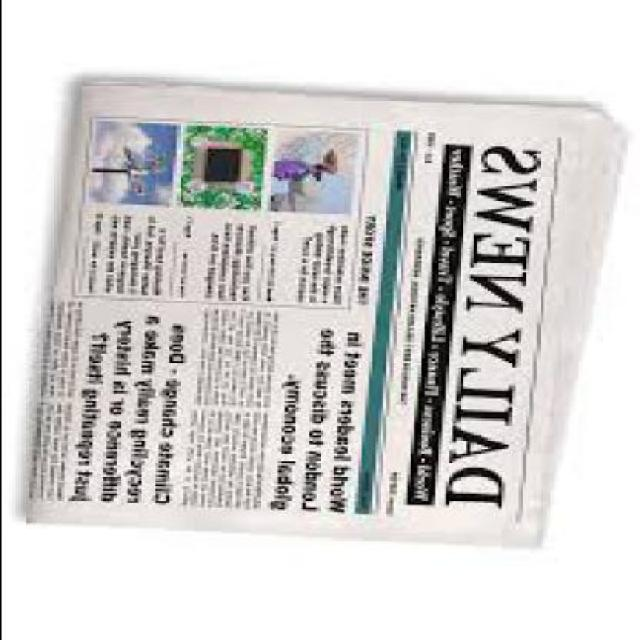PAPER: (28, 78, 622, 543)
